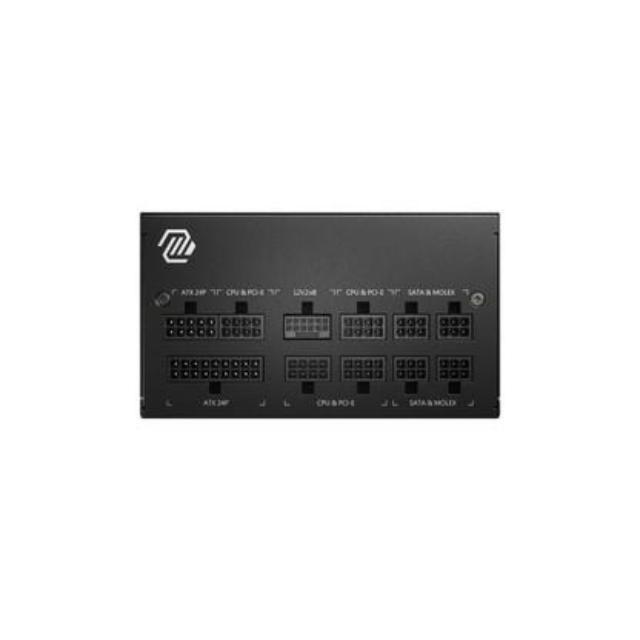PSU: (113, 177, 516, 454)
